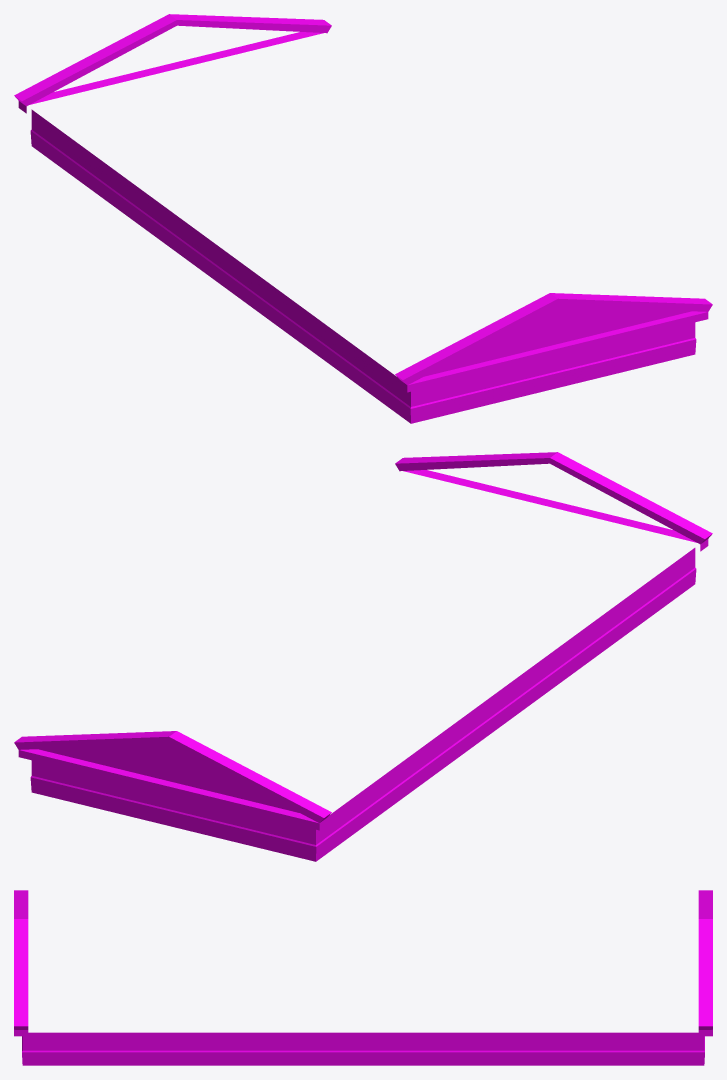
Rendered from parth_struct.glb.
3 renders of one model, top to bottom at view 1: azimuth 30°, elevation 25°; view 2: azimuth 150°, elevation 25°; view 3: azimuth 270°, elevation 25°, orthographic. The views are drawn at different scales.
Visible parts, largest first — view 1: par_stairsMesh_001-mesh; view 2: par_stairsMesh_001-mesh; view 3: par_stairsMesh_001-mesh.
Boxes of the visible parts, x1,y1,x2,y2 form: par_stairsMesh_001-mesh: [14, 14, 712, 423]; par_stairsMesh_001-mesh: [14, 452, 712, 861]; par_stairsMesh_001-mesh: [14, 890, 712, 1065].
Size of the model in its own units: 25 by 7.23 by 54.3.
